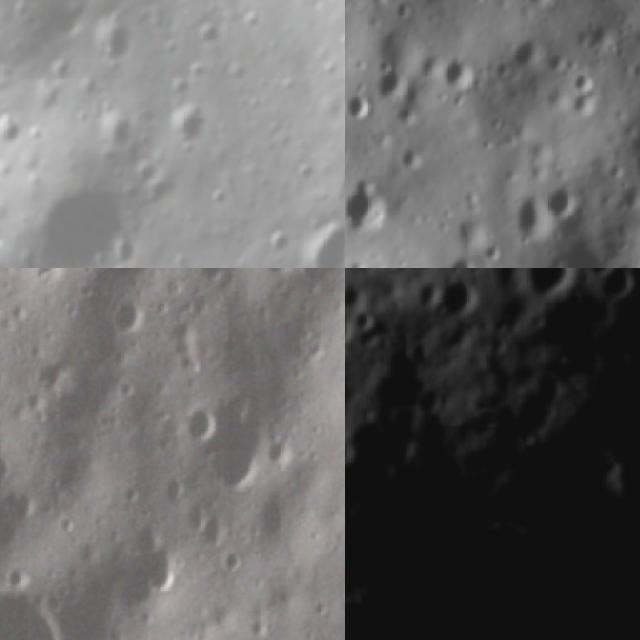crater: (11, 163, 148, 268), (218, 398, 286, 498), (120, 528, 180, 614), (0, 366, 34, 505), (0, 577, 68, 640), (82, 8, 143, 78), (158, 95, 218, 156), (295, 204, 345, 268), (96, 289, 154, 342), (345, 176, 393, 237), (180, 499, 236, 546), (90, 109, 142, 158), (510, 191, 553, 246), (435, 268, 482, 318), (510, 268, 587, 296), (187, 398, 230, 447), (260, 222, 296, 264), (104, 228, 141, 268), (544, 181, 580, 221), (442, 53, 478, 92), (374, 64, 410, 102), (0, 108, 26, 157), (511, 34, 544, 71), (345, 91, 376, 122), (350, 308, 388, 332), (572, 90, 600, 118), (189, 268, 229, 287), (568, 70, 598, 95), (398, 142, 426, 168), (436, 255, 476, 268), (522, 0, 558, 11), (628, 150, 640, 181), (369, 0, 391, 11)
